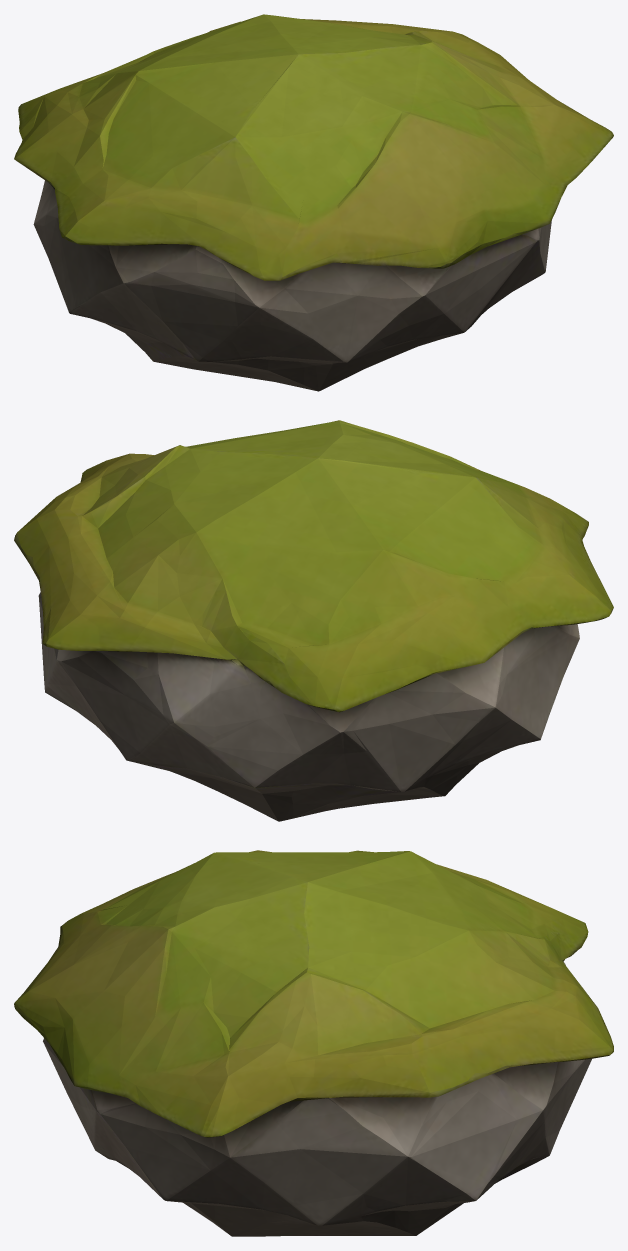
The model's file is racines_rocher.glb.
The picture shows the model from 3 angles, top to bottom: view 1: azimuth 30°, elevation 25°; view 2: azimuth 150°, elevation 25°; view 3: azimuth 270°, elevation 25°; orthographic projection. The views are drawn at different scales.
Visible parts, largest first — view 1: geometry_0; view 2: geometry_0; view 3: geometry_0.
Part boxes in pixels (<box>): geometry_0: <box>14,14,613,391</box>; geometry_0: <box>14,420,613,821</box>; geometry_0: <box>14,850,613,1236</box>.
Size of the model in its own units: 0.999 by 0.554 by 0.9307.
1 material, 1 textured.
